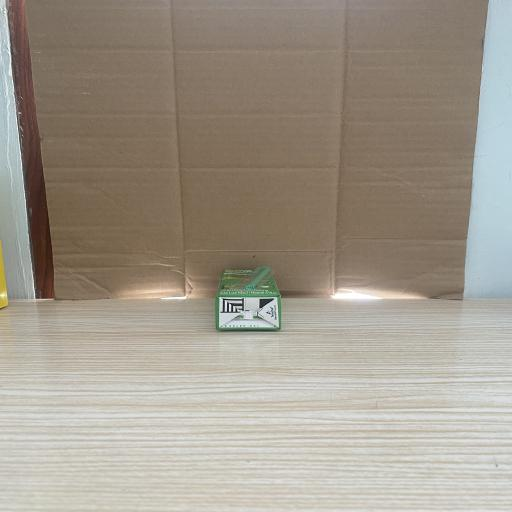milo: (216, 266, 282, 331)
